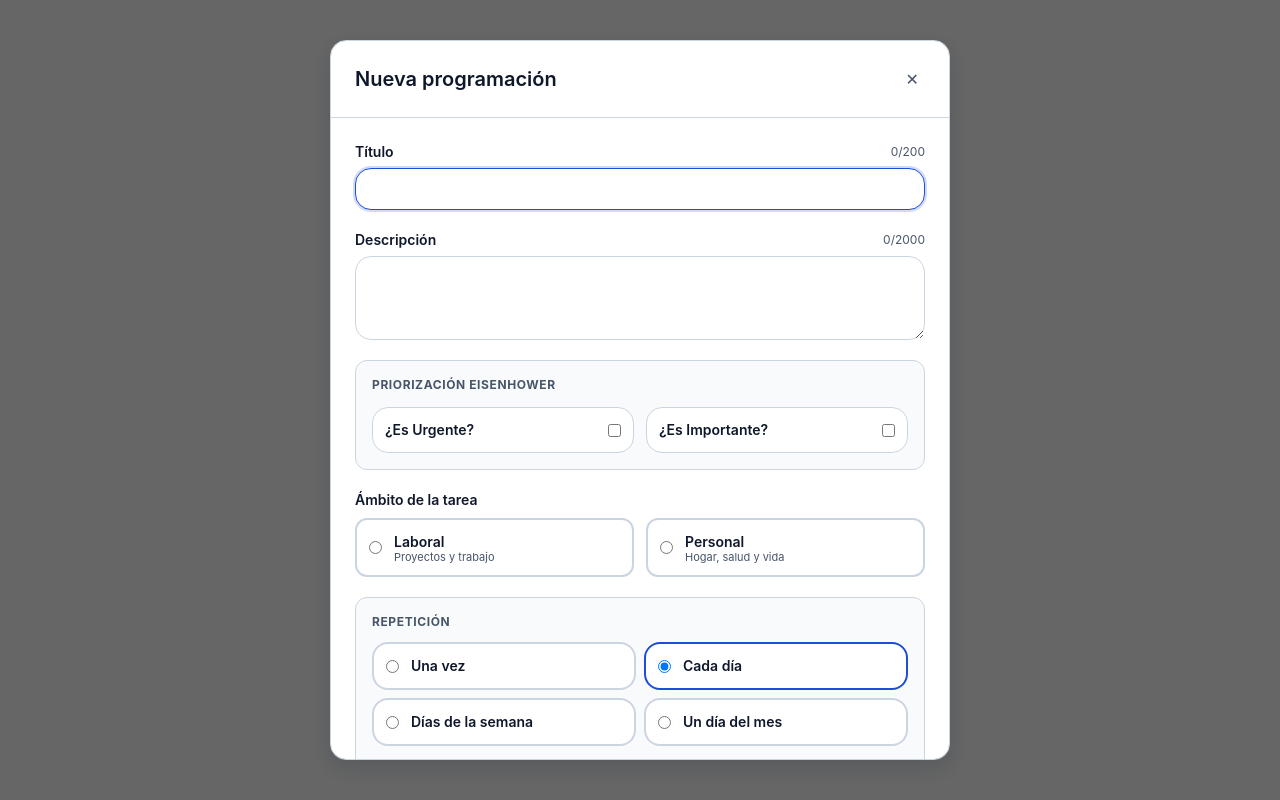
it: <ScheduleForm> (crear) › un día del mes › el día 0 se rechaza
In the field labelled "Título": [640, 189] box [355,168,925,210], type "  Informe semanal  "
In the text box labelled "Descripción": [640, 298] box [355,256,925,340], type "Enviar el resumen"
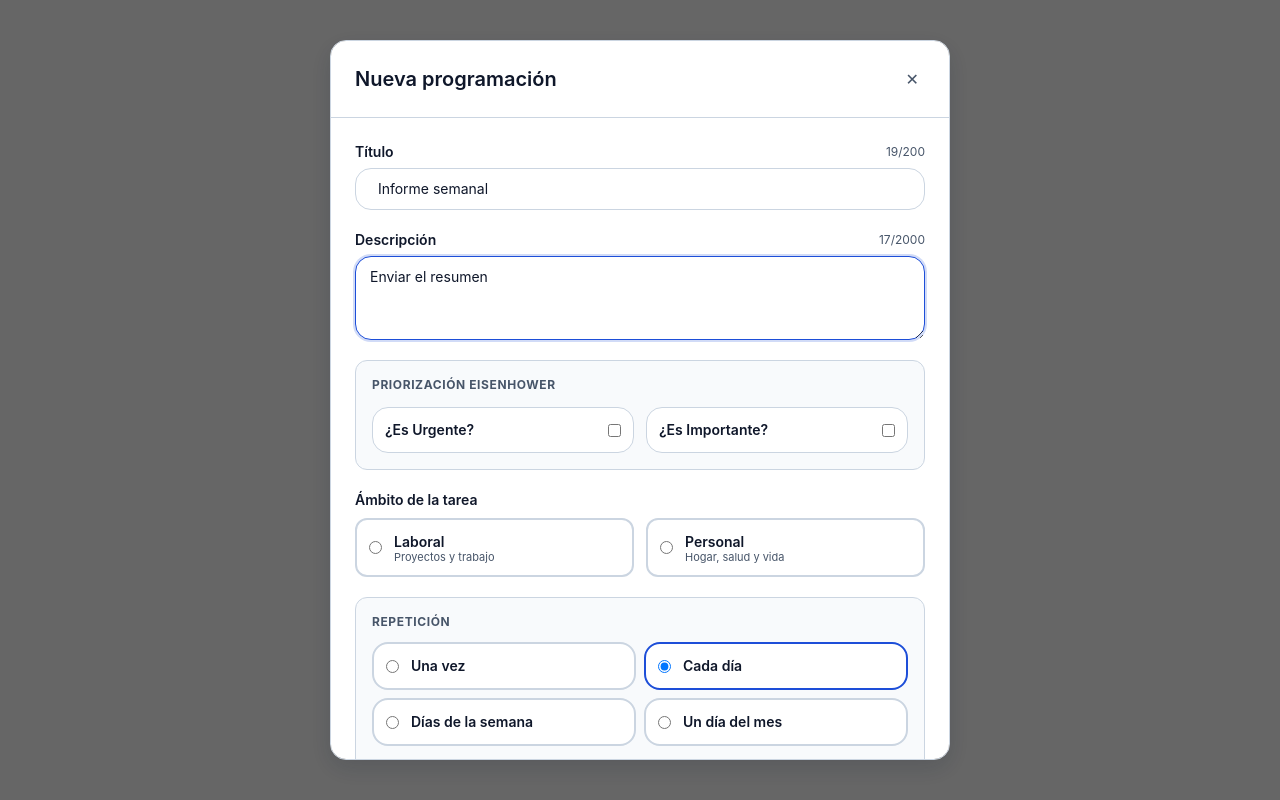
Click the checkbox named "Marcar como importante": [888, 430] box [882,424,895,436]
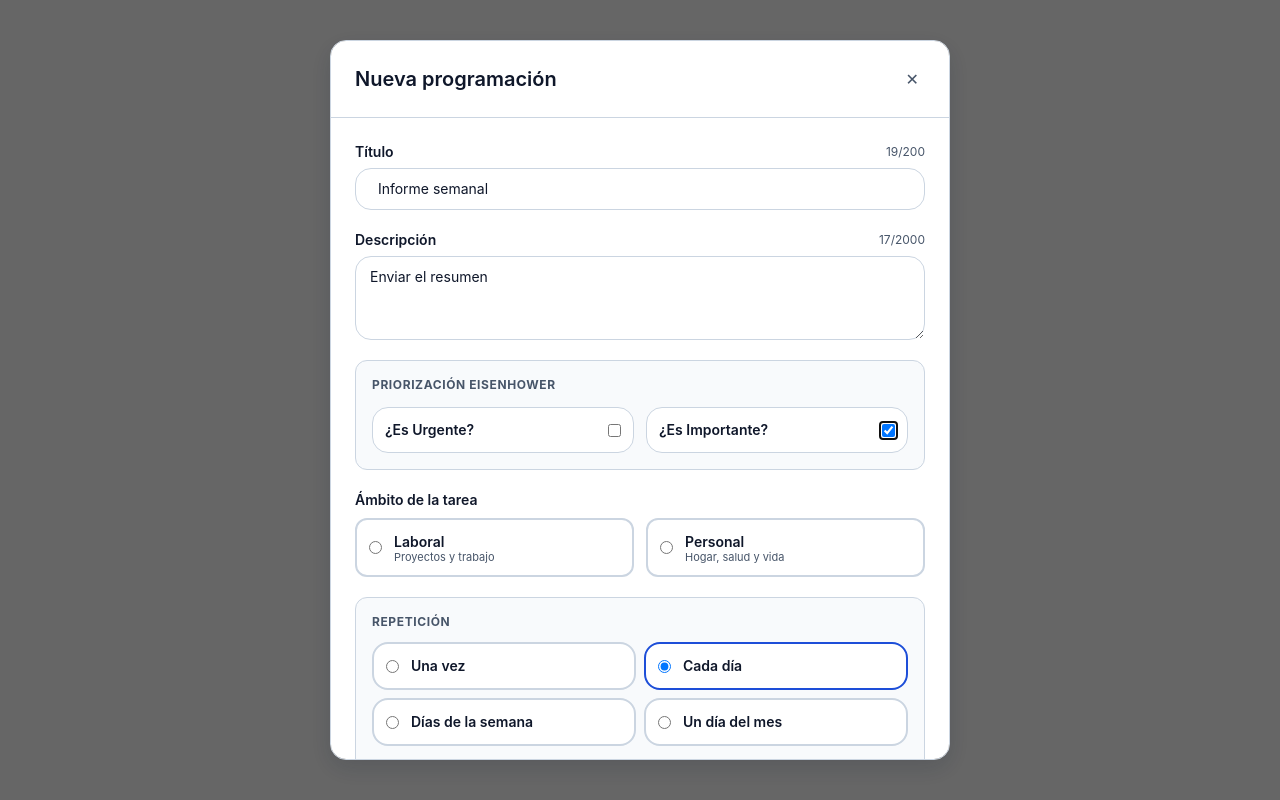
Click the radio button labelled "Laboral": [376, 548] box [369,541,382,554]
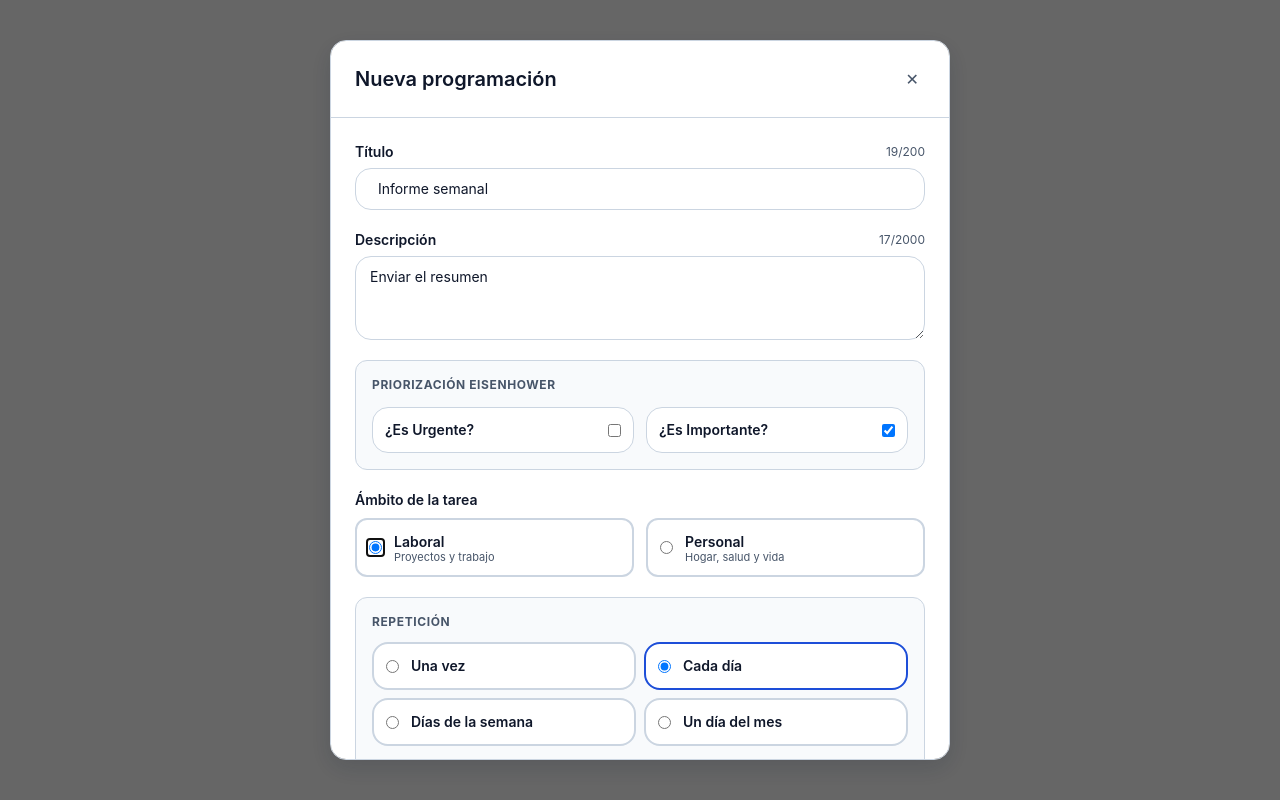
Click the radio button labelled "Un día del mes": [664, 722] box [658,716,671,728]
(page scrolled)
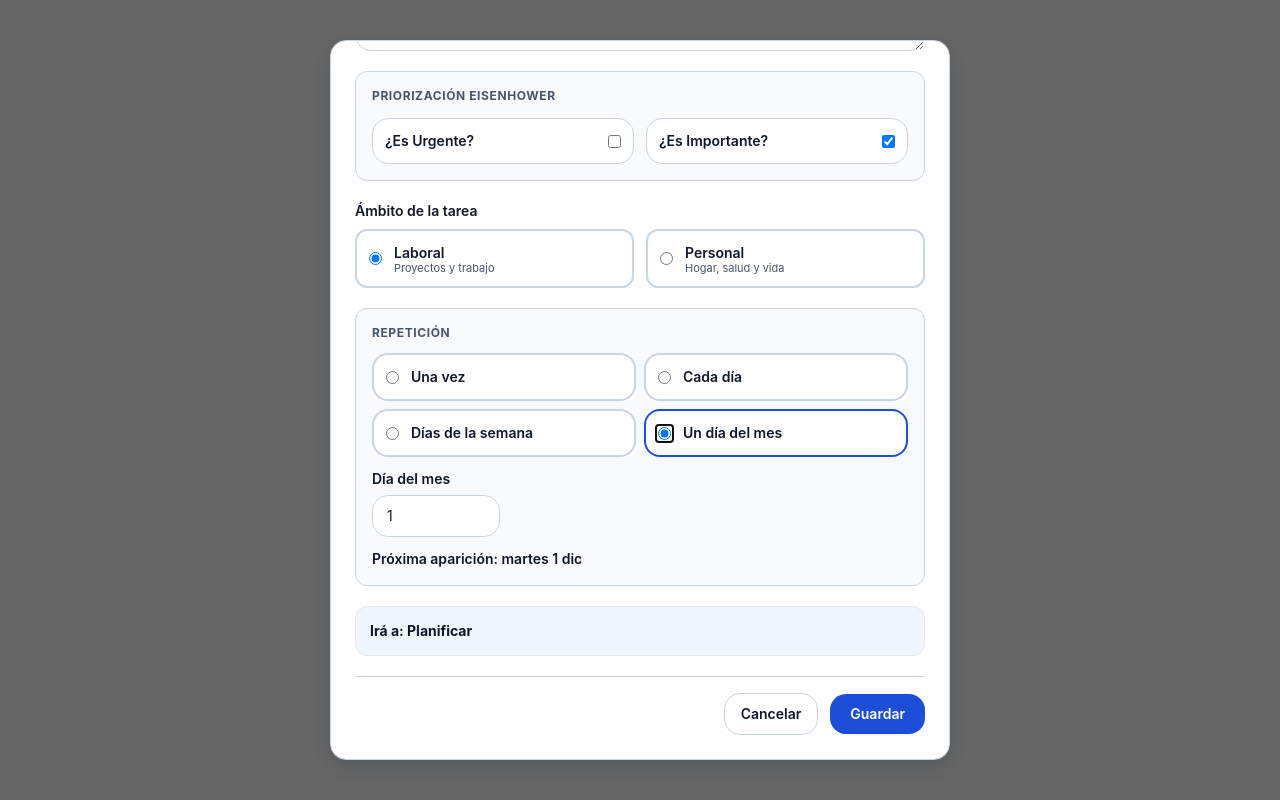
Clear the number field labelled "Día del mes": [436, 516] box [372,495,500,537]
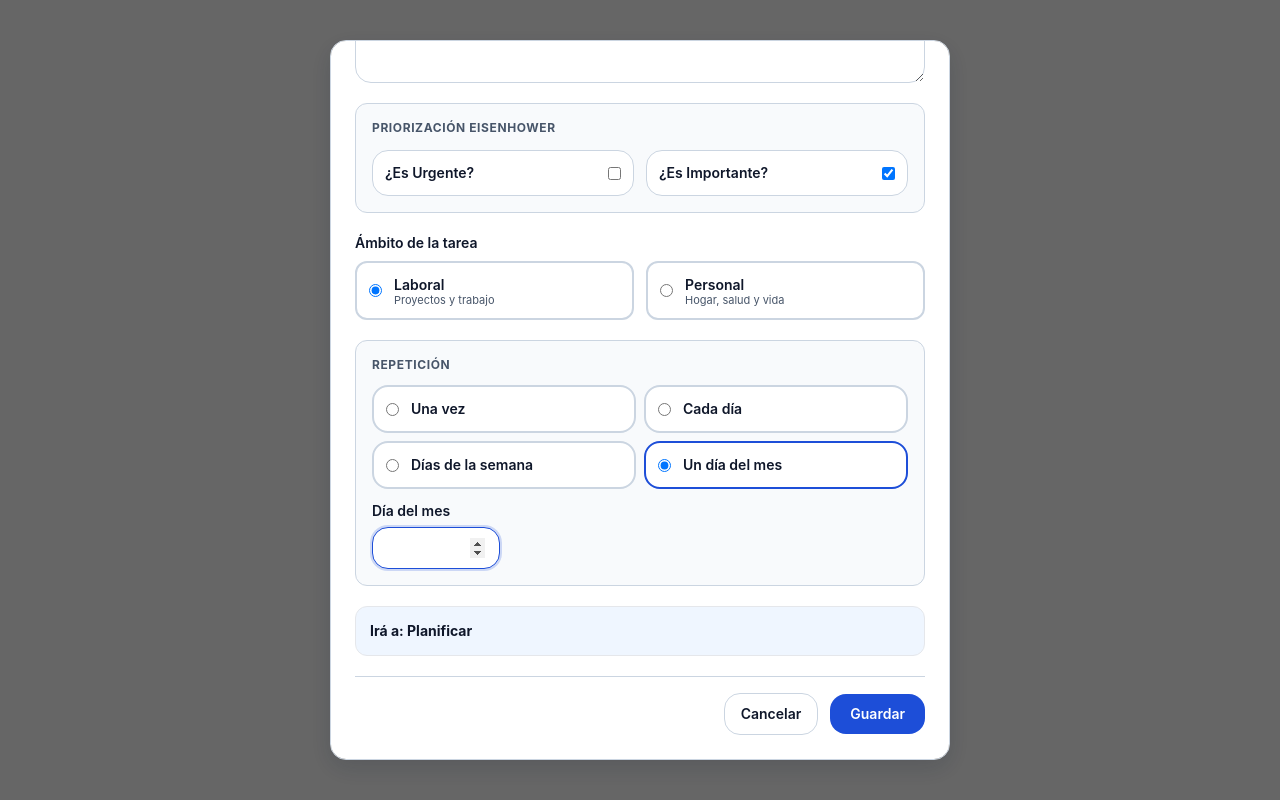
In the number field labelled "Día del mes": [436, 548] box [372,527,500,569], type "0"
Click the button "Guardar": [878, 714] box [830,694,925,734]
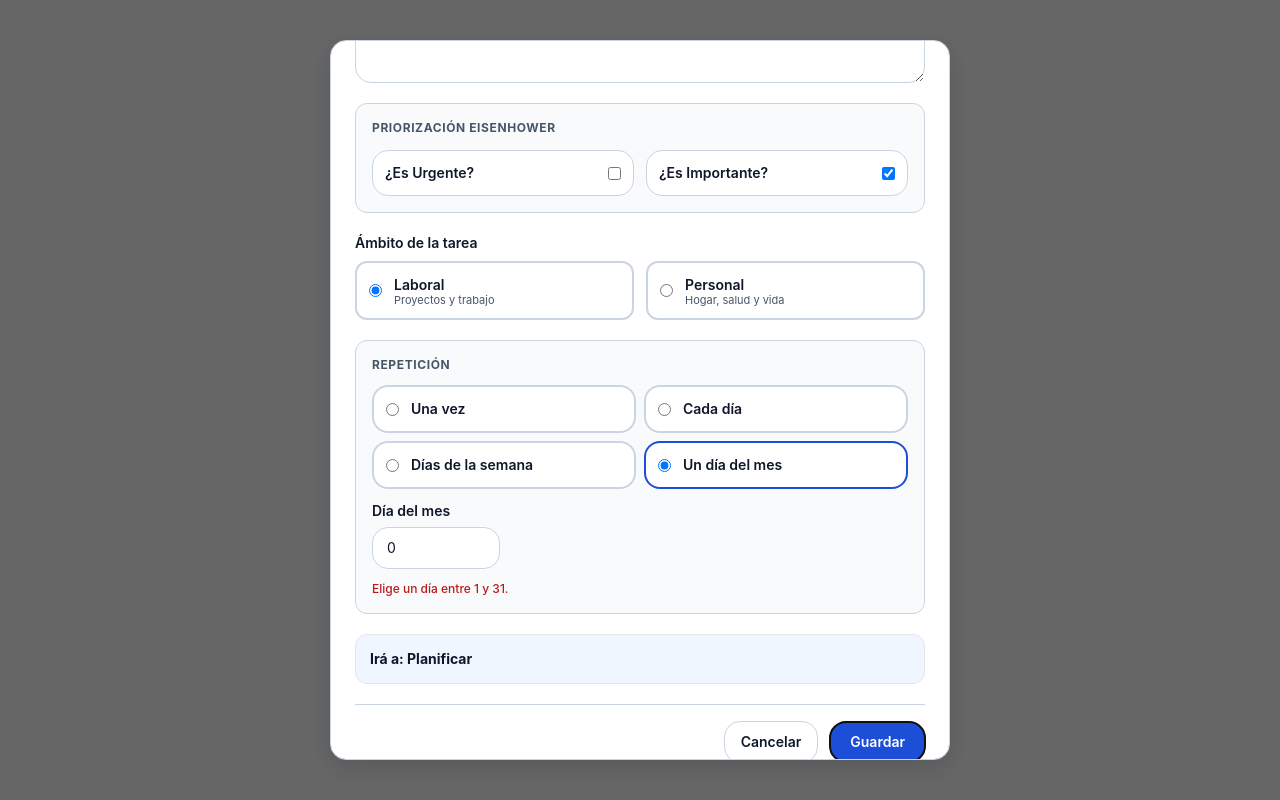
Check: the text "Elige un día entre 1 y 31." is shown, box [372,581,508,596]
